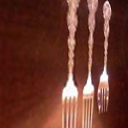Fork: (62, 1, 118, 128)
